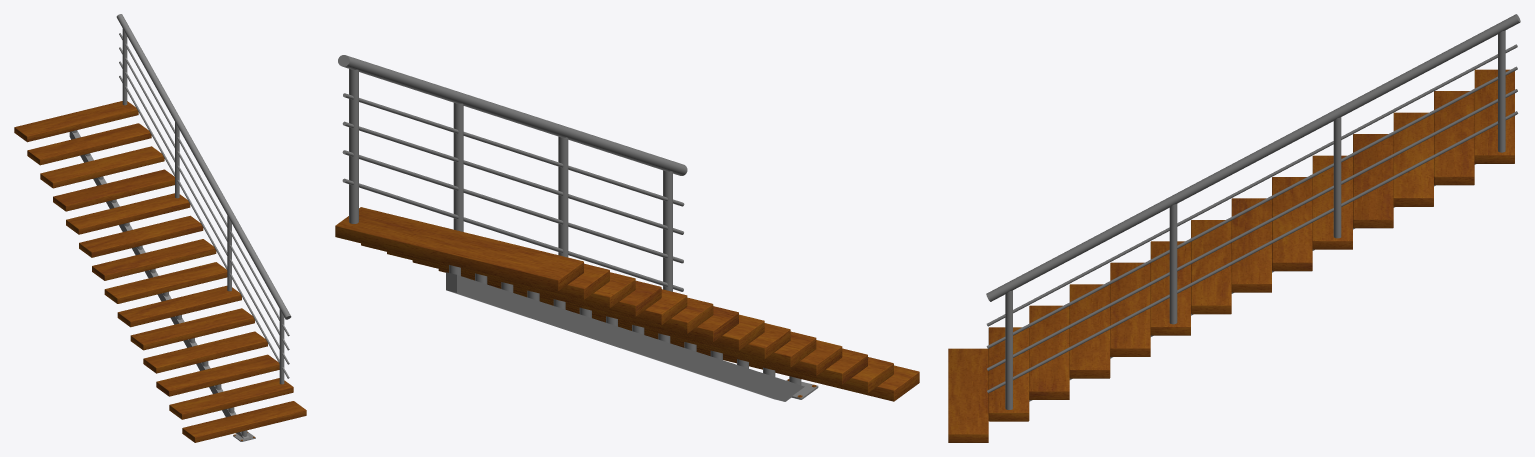
File: staircase.fbx
3 views of the same model, side by side, from view 1: azimuth 30°, elevation 25°; view 2: azimuth 150°, elevation 25°; view 3: azimuth 270°, elevation 25° (orthographic). The views are drawn at different scales.
Parts seen in each view (by area): view 1: schody na 1 pietro, schody na 1 pietro.001; view 2: schody na 1 pietro, schody na 1 pietro.001; view 3: schody na 1 pietro, schody na 1 pietro.001.
Part boxes in pixels (x1=…): schody na 1 pietro: x1=14, y1=101, x2=306, y2=442; schody na 1 pietro.001: x1=69, y1=14, x2=291, y2=441; schody na 1 pietro: x1=335, y1=207, x2=919, y2=401; schody na 1 pietro.001: x1=338, y1=55, x2=818, y2=401; schody na 1 pietro: x1=948, y1=69, x2=1514, y2=442; schody na 1 pietro.001: x1=986, y1=14, x2=1520, y2=409.
Size of the model in its own units: 167 by 404 by 472.
2 materials, 1 textured.
